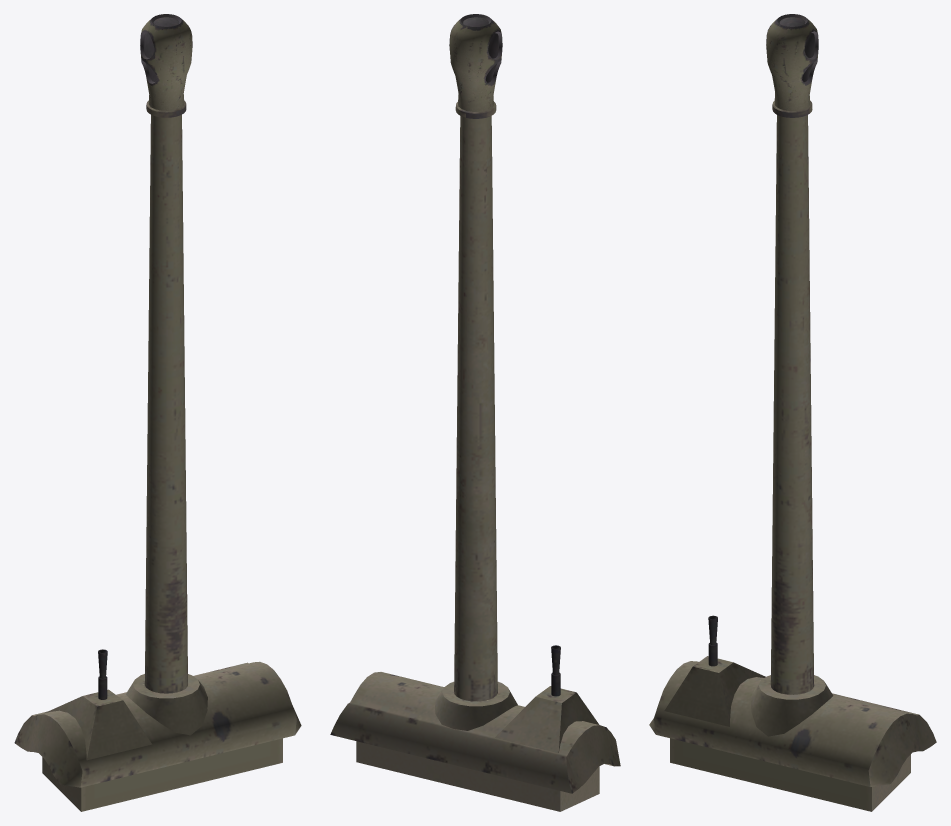
File: Gun_01.glb
3 views of the same model, side by side, from view 1: azimuth 30°, elevation 25°; view 2: azimuth 150°, elevation 25°; view 3: azimuth 330°, elevation 25° (orthographic).
Visible parts, largest first — view 1: set_0_group_0; view 2: set_0_group_0; view 3: set_0_group_0.
Part boxes in pixels (x1,y1,x2,y2): set_0_group_0: (14, 14, 301, 811); set_0_group_0: (330, 14, 620, 811); set_0_group_0: (649, 14, 936, 811).
Size of the model in its own units: 1.34 by 3.99 by 0.5355.
Materials: 1 (1 with a texture image).
